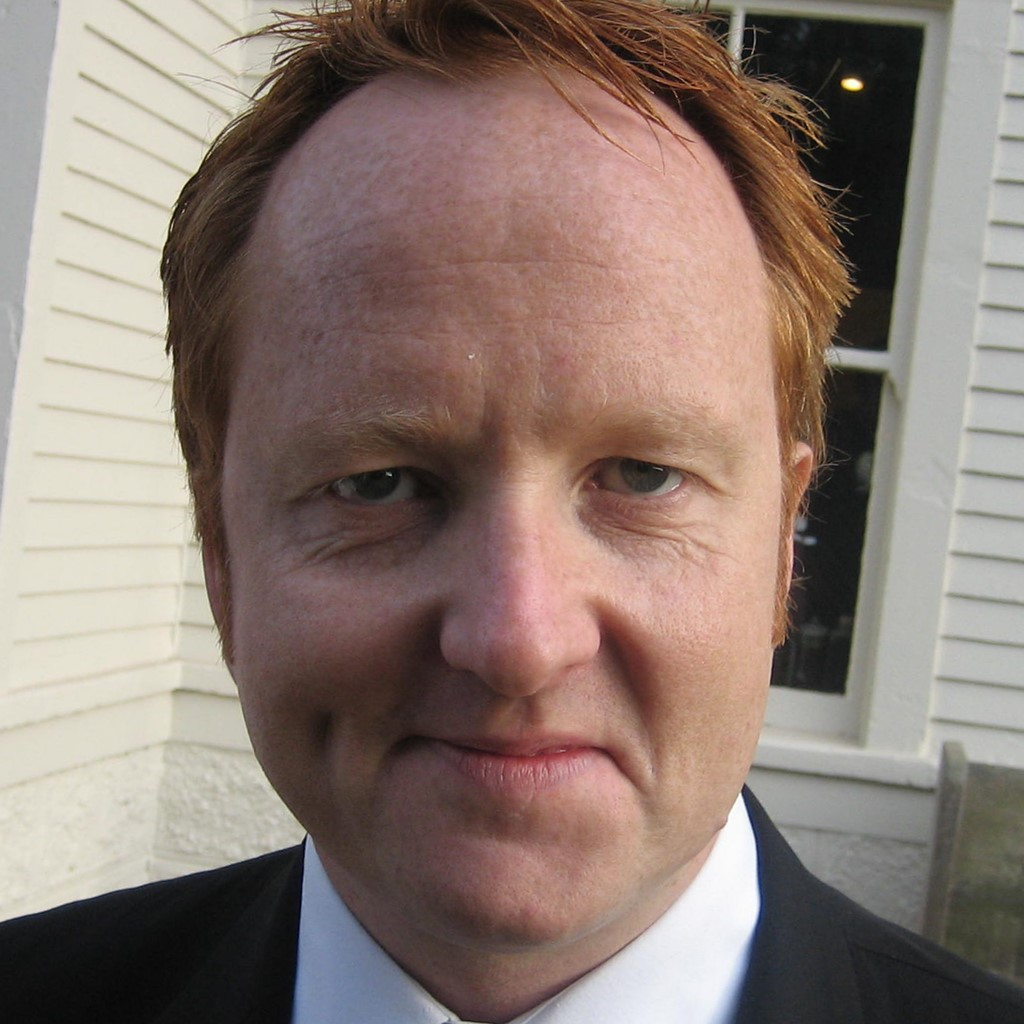sin_mascara: (215, 105, 796, 934)
